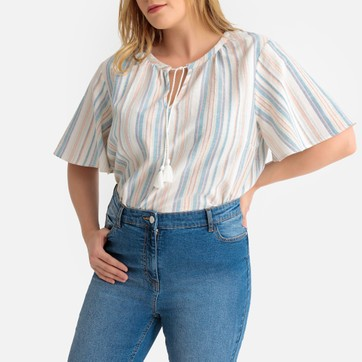C_jeans: (65, 194, 250, 362)
C_short blouse: (54, 29, 358, 215)
